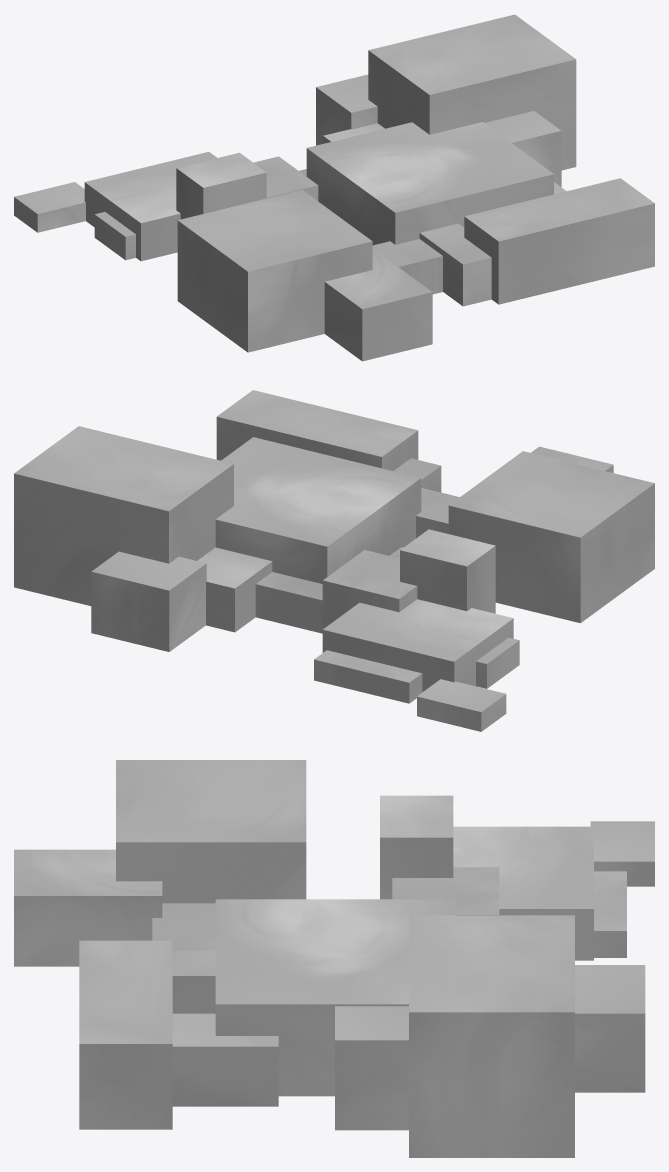
The model's file is cloud3.FBX.
3 views of the same model, one above another, from view 1: azimuth 30°, elevation 25°; view 2: azimuth 150°, elevation 25°; view 3: azimuth 270°, elevation 25° (orthographic). The views are drawn at different scales.
Visible parts, largest first — view 1: Box001; view 2: Box001; view 3: Box001.
Boxes of the visible parts, bbox=[...] form: Box001: bbox=[14, 14, 654, 361]; Box001: bbox=[14, 390, 654, 731]; Box001: bbox=[14, 760, 654, 1157].
Size of the model in its own units: 125 by 27.38 by 109.
1 material, 1 textured.
